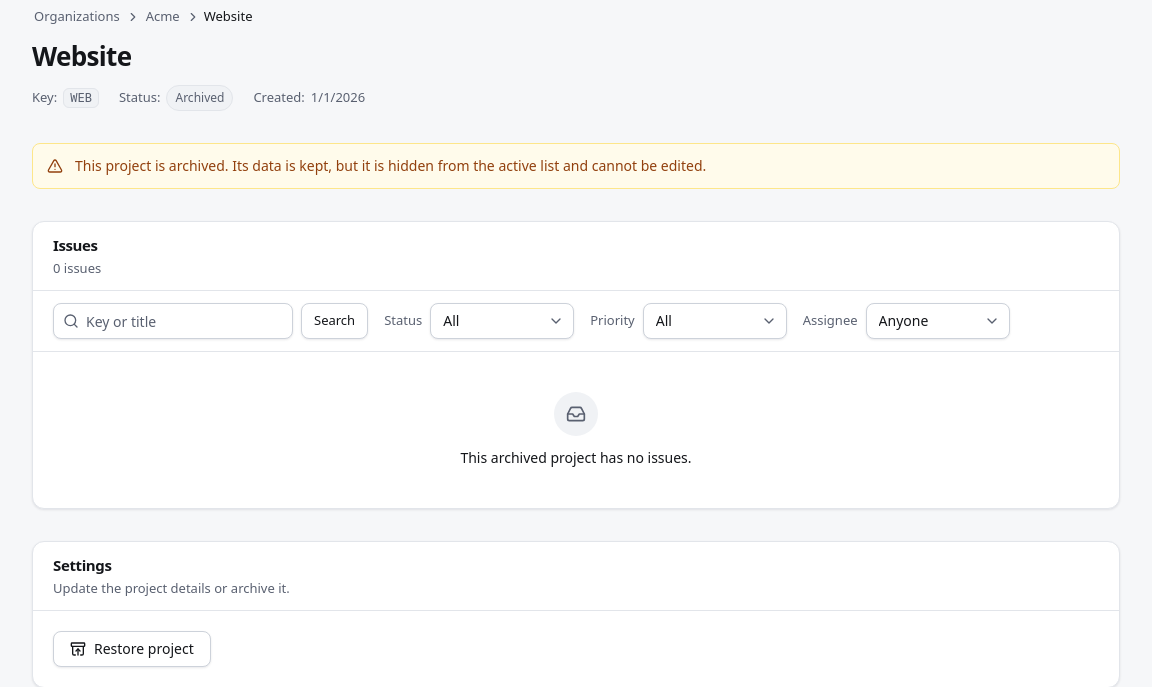
Test case: ProjectOverview › restores an archived project
Click the button "Restore project" at (132,649), box [53,631,211,667]
(page scrolled)
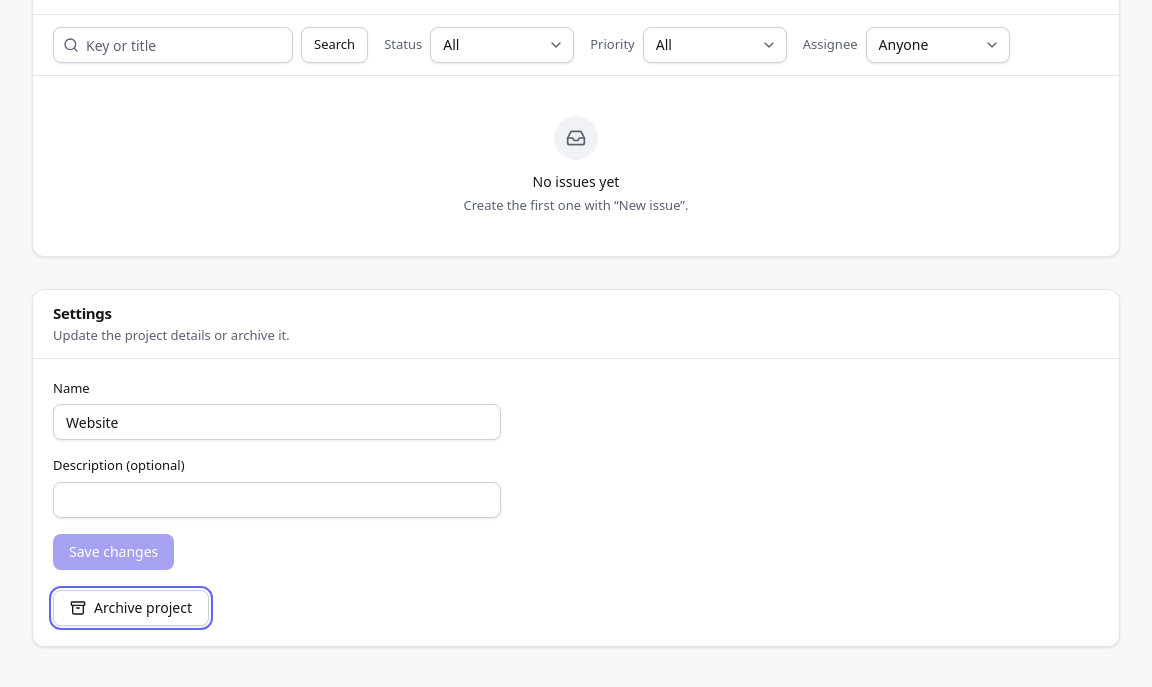
Now the button "Archive project" is shown, box [53,590,209,626]
